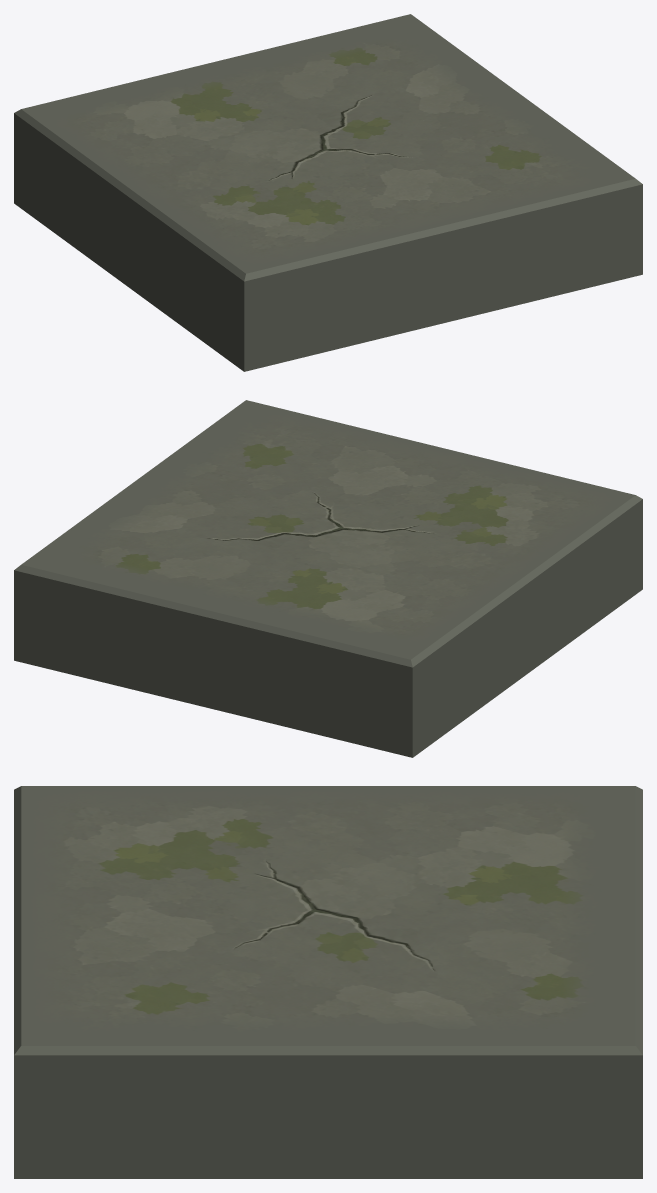
The model's file is Floor01_crack.fbx.
3 renders of one model, top to bottom at view 1: azimuth 30°, elevation 25°; view 2: azimuth 150°, elevation 25°; view 3: azimuth 270°, elevation 25°, orthographic. The views are drawn at different scales.
Parts seen in each view (by area): view 1: SM_Floor_01; view 2: SM_Floor_01; view 3: SM_Floor_01.
Boxes of the visible parts, x1,y1,x2,y2 form: SM_Floor_01: (14,14,642,371); SM_Floor_01: (14,400,642,757); SM_Floor_01: (14,786,642,1178).
Size of the model in its own units: 105 by 23.94 by 105.
Materials: 1 (1 with a texture image).
